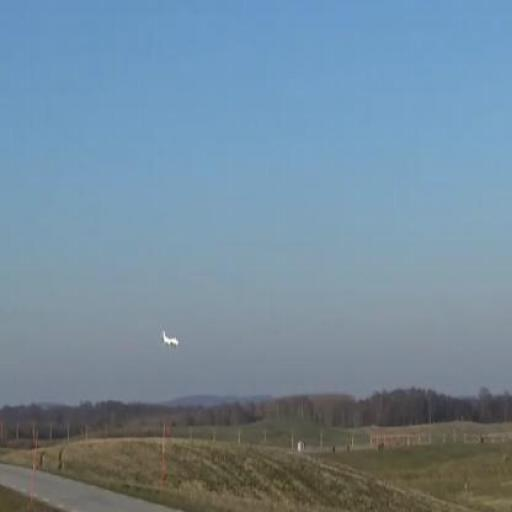aircraft: (161, 329, 180, 348)
